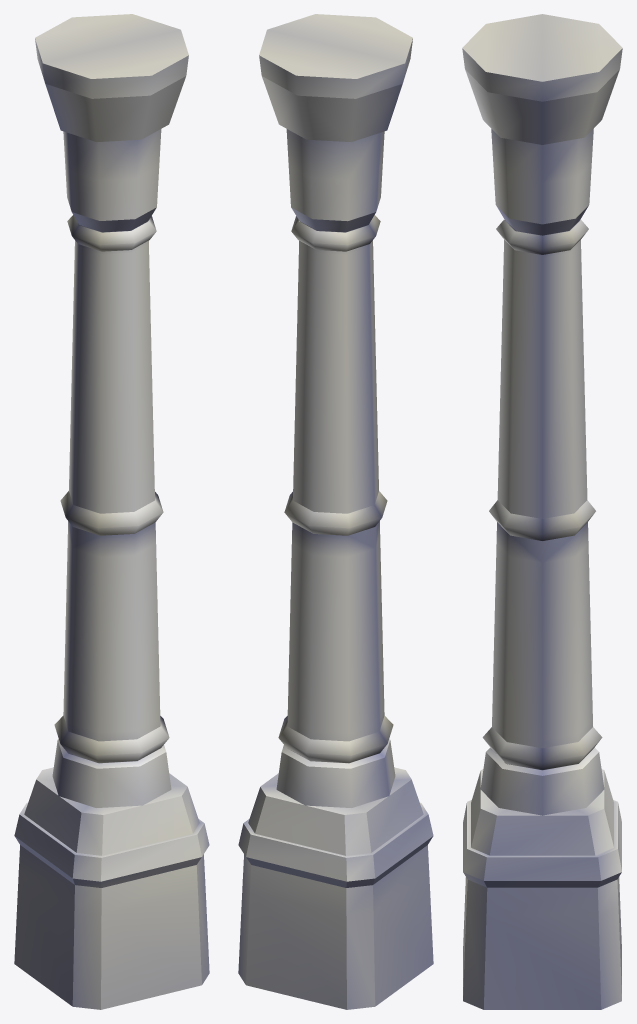
The model's file is CircularPillar.gltf.
The picture shows the model from 3 angles, left to right: view 1: azimuth 30°, elevation 25°; view 2: azimuth 150°, elevation 25°; view 3: azimuth 270°, elevation 25°; orthographic projection.
Visible parts, largest first — view 1: CircularPillarMesh; view 2: CircularPillarMesh; view 3: CircularPillarMesh.
Part boxes in pixels (left/top/right/bottom): CircularPillarMesh: left=14, top=14, right=209, bottom=1009; CircularPillarMesh: left=238, top=14, right=433, bottom=1009; CircularPillarMesh: left=462, top=14, right=622, bottom=1009.
Bounding box in the file's own units: 1.57 × 10 × 1.57.
